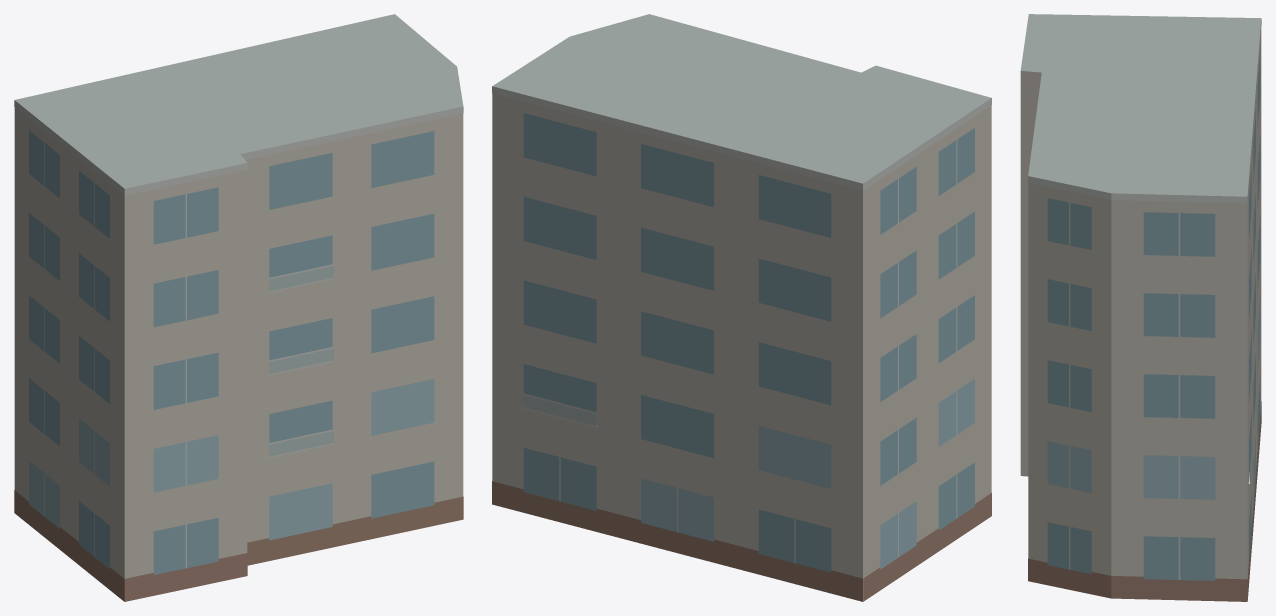
The model's file is survey-upis-32956105.glb.
3 views of the same model, side by side, from view 1: azimuth 30°, elevation 25°; view 2: azimuth 150°, elevation 25°; view 3: azimuth 270°, elevation 25° (orthographic). The views are drawn at different scales.
Visible parts, largest first — view 1: survey-upis-32956105.tmp; view 2: survey-upis-32956105.tmp; view 3: survey-upis-32956105.tmp.
Boxes of the visible parts, x1,y1,x2,y2 form: survey-upis-32956105.tmp: (14,14,463,601); survey-upis-32956105.tmp: (492,14,991,601); survey-upis-32956105.tmp: (1020,14,1261,601).
Bounding box in the file's own units: 14.18 × 14.65 × 7.9.
